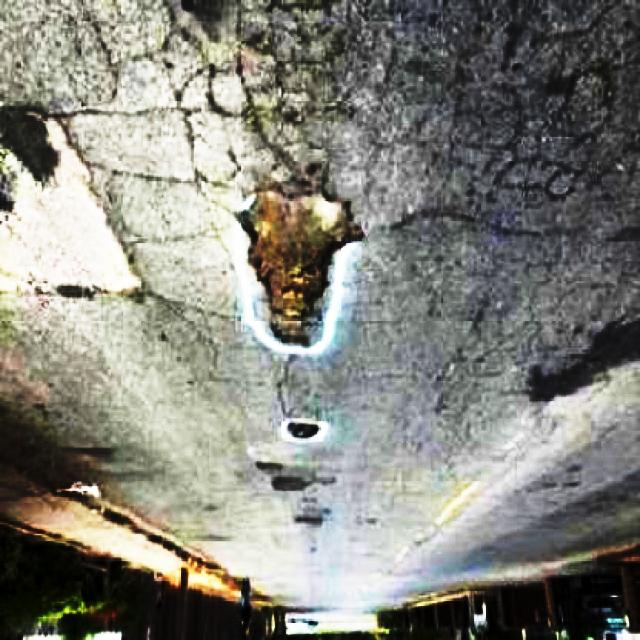pothole: (0, 103, 162, 311), (229, 169, 366, 357), (283, 414, 326, 451)
